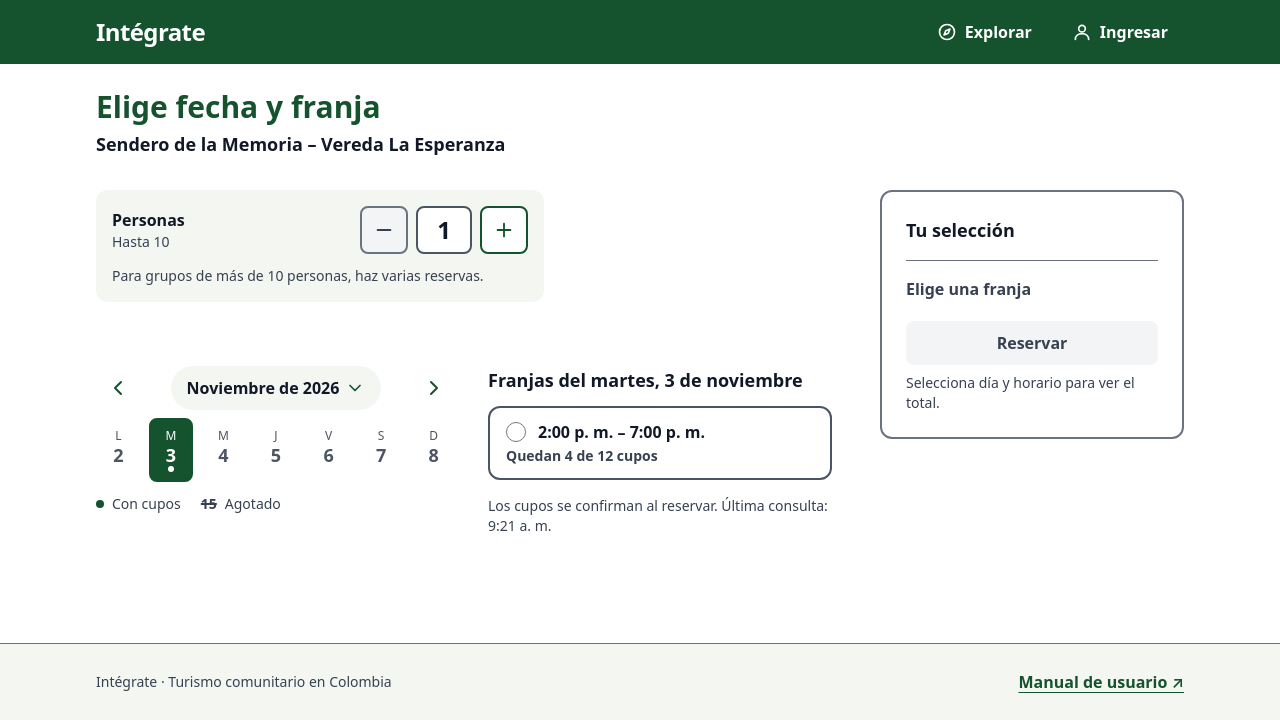
Test: vistas por factor de forma (ADR-0020) › el selector de franjas en escritorio resume la selección y lleva a la reserva
Expected: the button "Reservar" is disabled, [906, 320, 1158, 364]
Click the radio button: (516, 432) [506, 422, 526, 442]
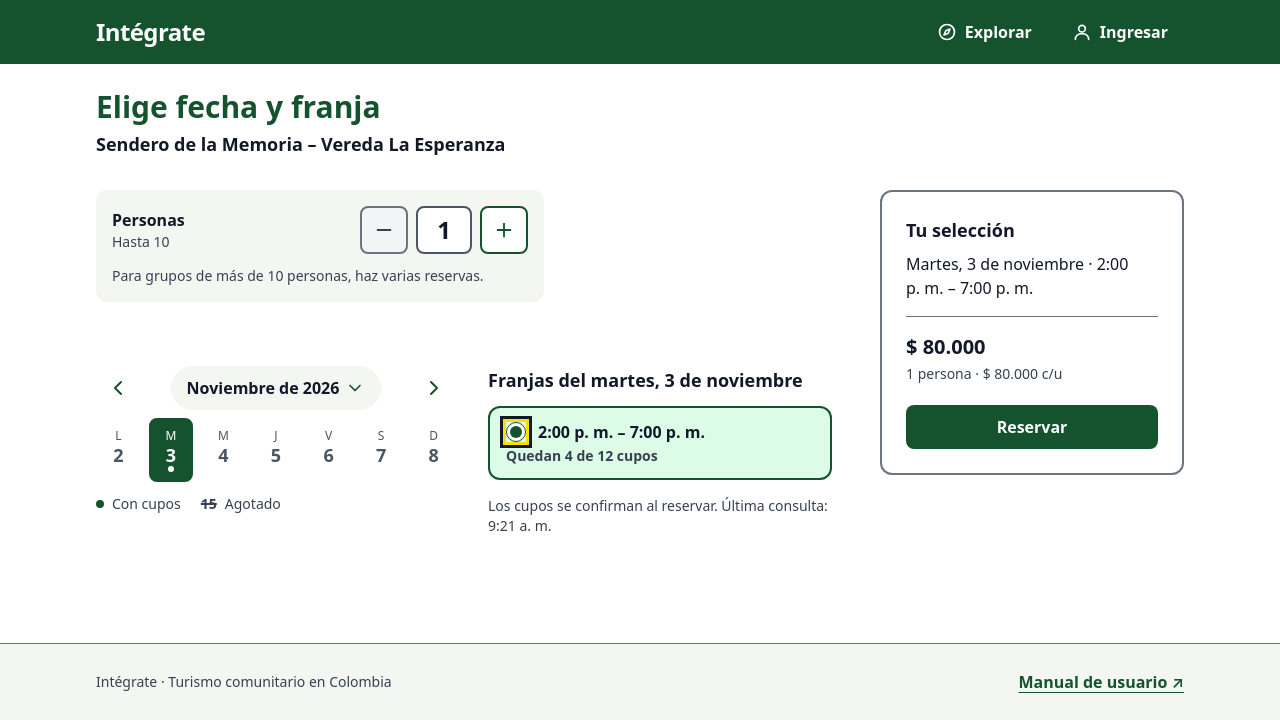
Expected: the element "Tu selección" shows "$ 80.000", [906, 332, 986, 360]
